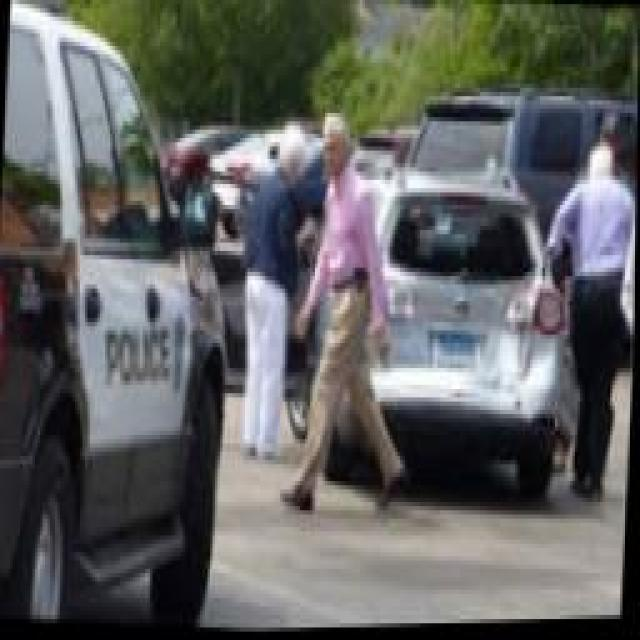Bumper: (374, 334, 562, 424)
Dickey: (376, 263, 556, 403)
